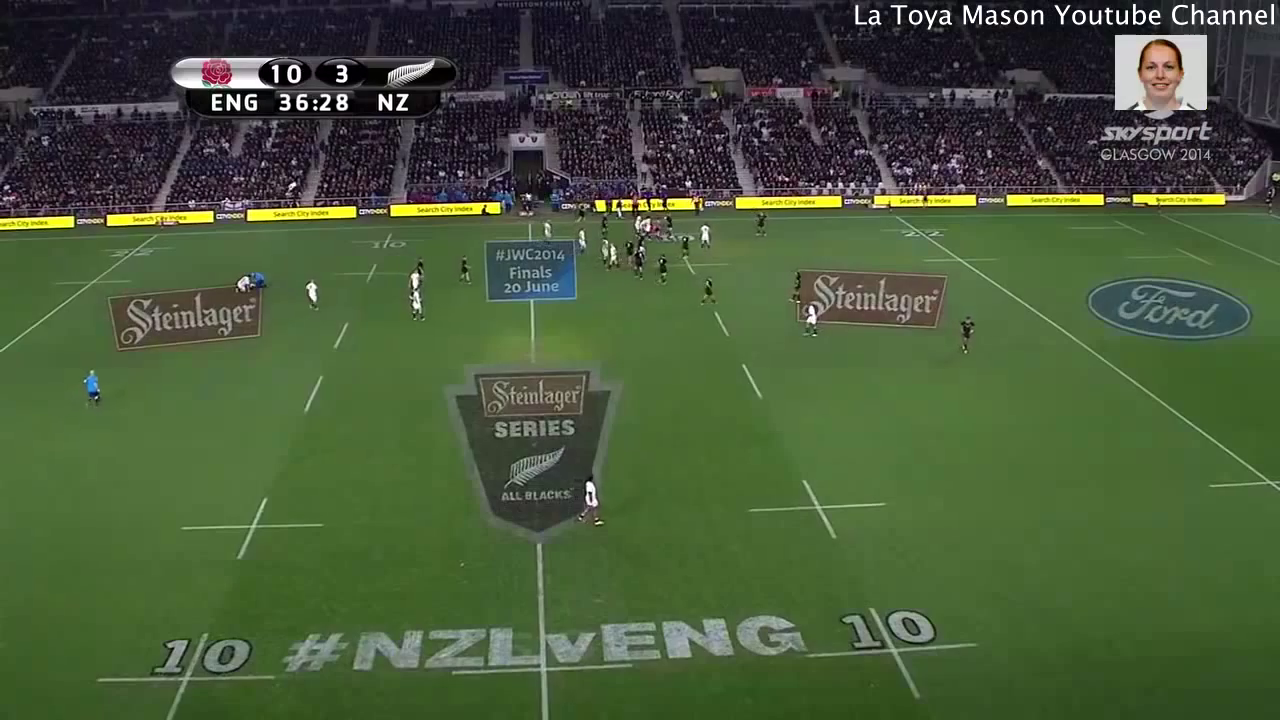10_metre: (88, 630, 283, 720), (805, 603, 978, 703), (741, 477, 894, 543), (177, 494, 323, 562), (654, 253, 733, 279), (333, 263, 417, 284), (346, 232, 429, 252)
player: (577, 474, 603, 526), (81, 369, 104, 409), (956, 316, 973, 359), (303, 278, 321, 314), (789, 268, 806, 305), (654, 254, 669, 293), (699, 277, 717, 309), (410, 288, 426, 322), (801, 301, 817, 335), (752, 208, 769, 240), (247, 269, 269, 291), (697, 224, 715, 250), (458, 258, 473, 288), (233, 274, 250, 296), (631, 249, 643, 280), (598, 212, 612, 236), (541, 218, 553, 245), (677, 236, 691, 259), (414, 258, 427, 280), (577, 228, 588, 253), (609, 245, 620, 270), (663, 214, 676, 234), (632, 214, 644, 235), (408, 269, 419, 291), (598, 238, 608, 261), (623, 241, 633, 264), (639, 218, 650, 236)
ruck: (631, 219, 679, 244)
